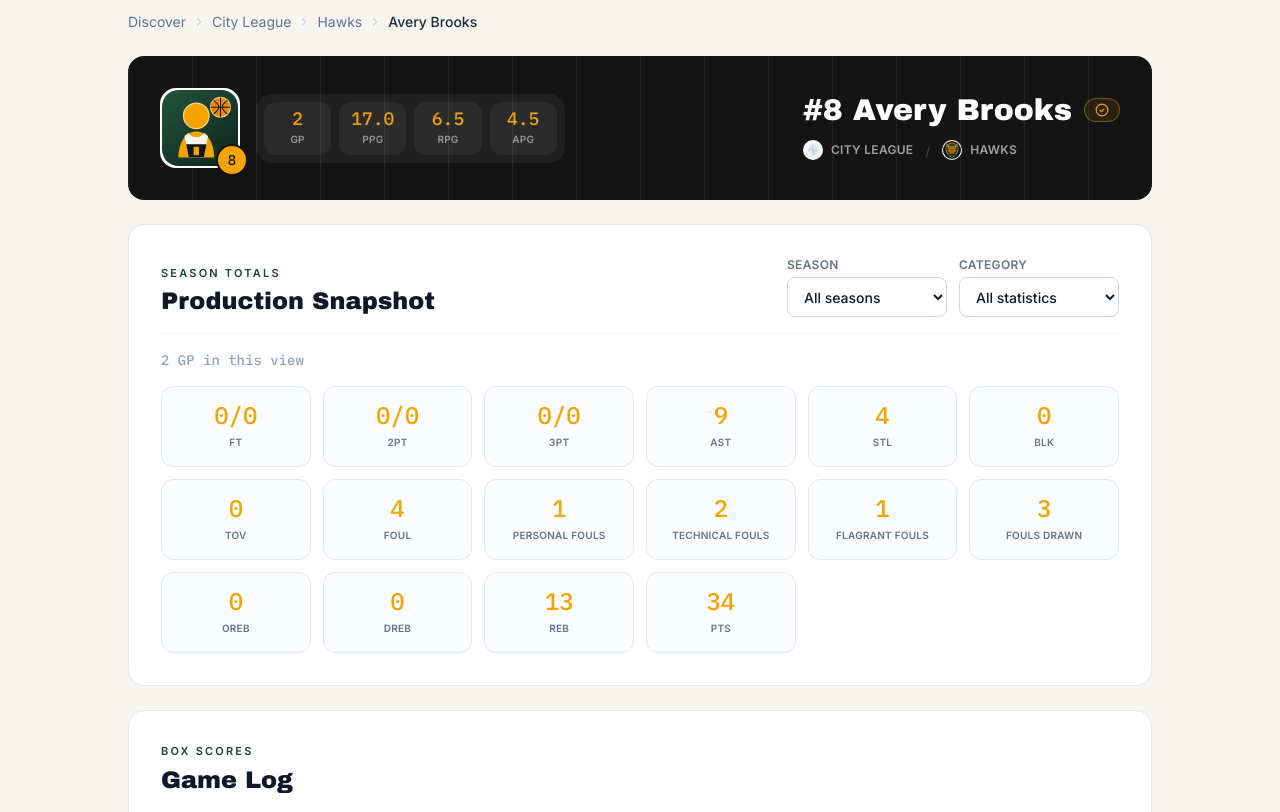
PublicLeaguePlayerPage statistics filters › uses league season labels and filters totals and columns together
Select "2025 Spring" in the dropdown labelled "Season" at point(867, 297), box top-left (787, 277), bottom-right (947, 317)
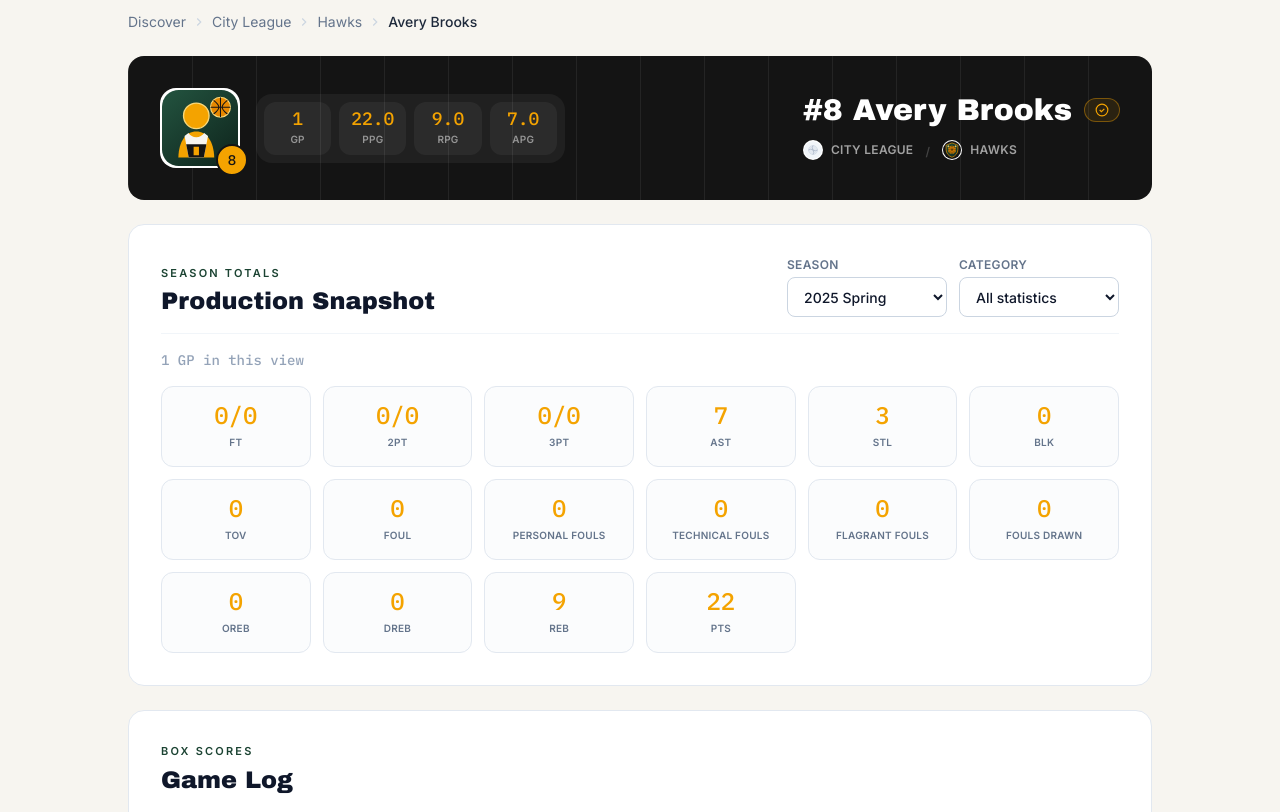
Select "Rebounding" in the dropdown labelled "Category" at point(1039, 297), box top-left (959, 277), bottom-right (1119, 317)
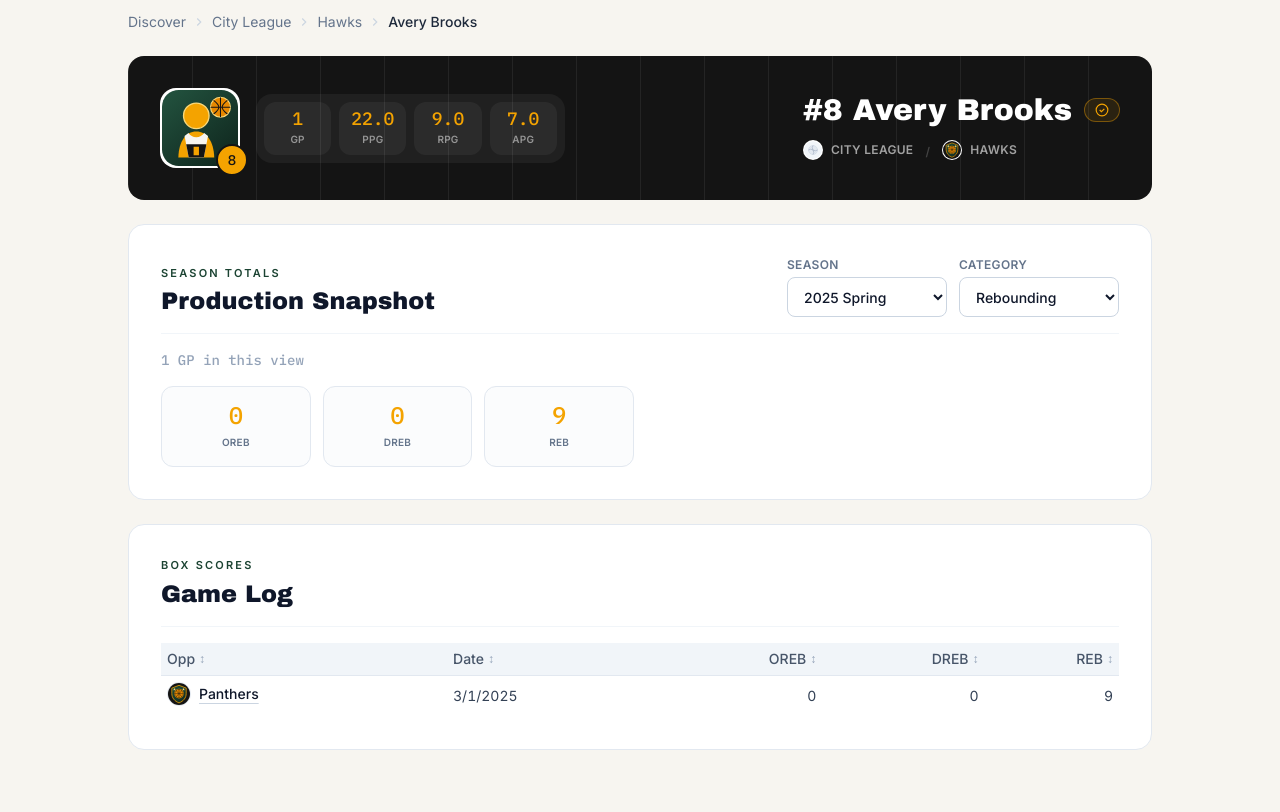
Expected: the button "REB ↕" is shown, top-left (1076, 648), bottom-right (1113, 668)
Expected: the text "PTS" is gone
